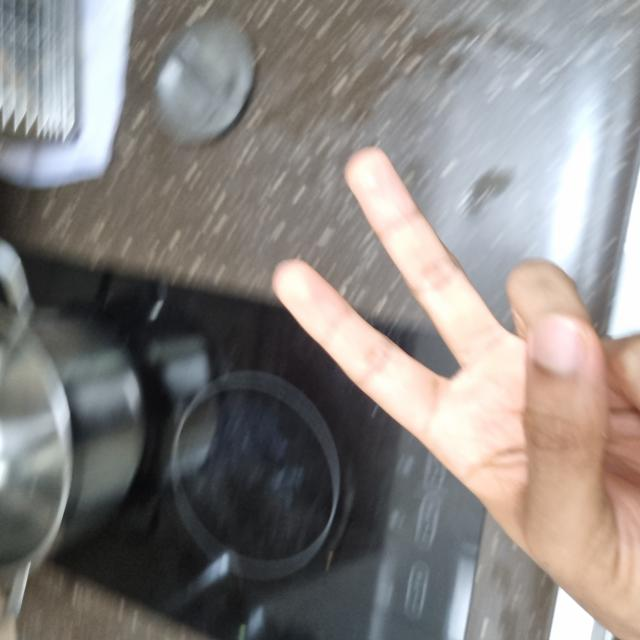Scissors: (3, 282, 483, 639)
